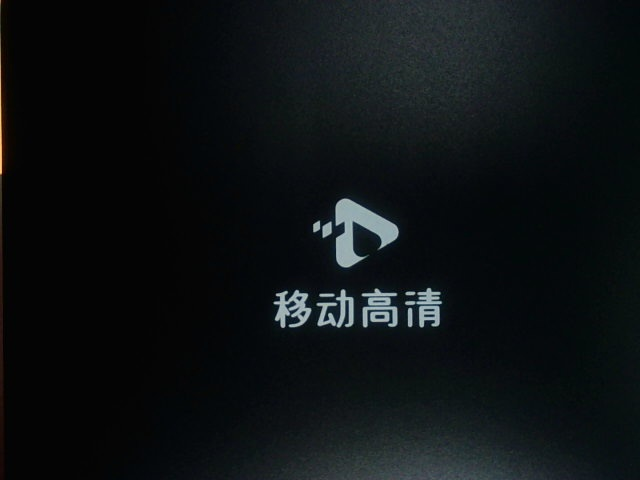AO_MobileHD: (257, 185, 464, 352)
